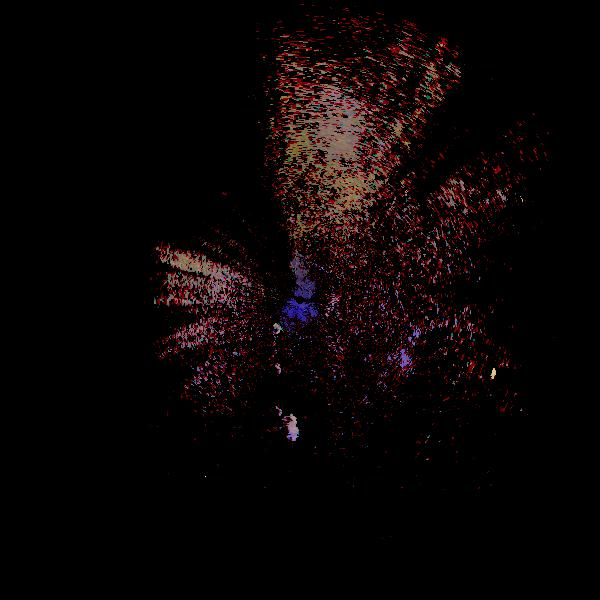roost: (270, 420, 303, 453), (281, 414, 299, 432), (270, 325, 282, 337)
